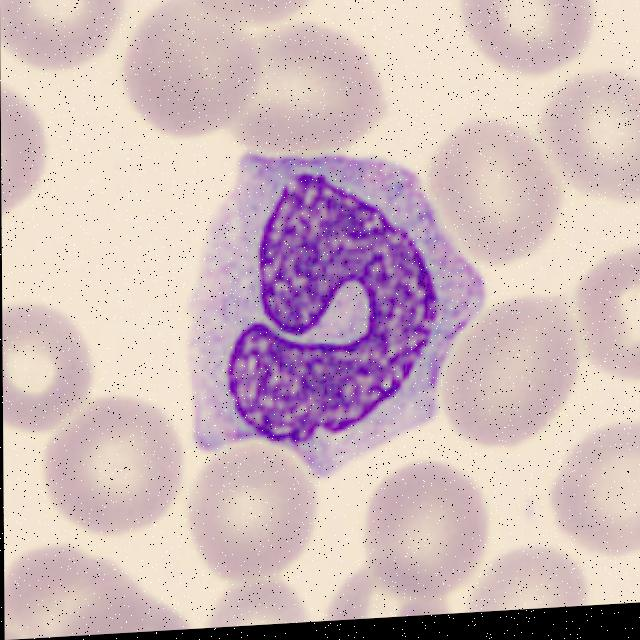monocyte: (176, 141, 485, 485)
rbc: (217, 15, 405, 160), (37, 397, 185, 558), (442, 292, 578, 460), (190, 436, 328, 595), (112, 7, 263, 145), (437, 118, 563, 272), (361, 455, 484, 603), (542, 408, 640, 564), (2, 302, 98, 435), (454, 0, 601, 86), (4, 539, 123, 640), (0, 0, 135, 85), (557, 79, 640, 204), (576, 244, 640, 390), (317, 554, 454, 621), (463, 541, 586, 613), (62, 582, 203, 637), (1, 80, 47, 231), (194, 578, 317, 629), (189, 0, 330, 30)
